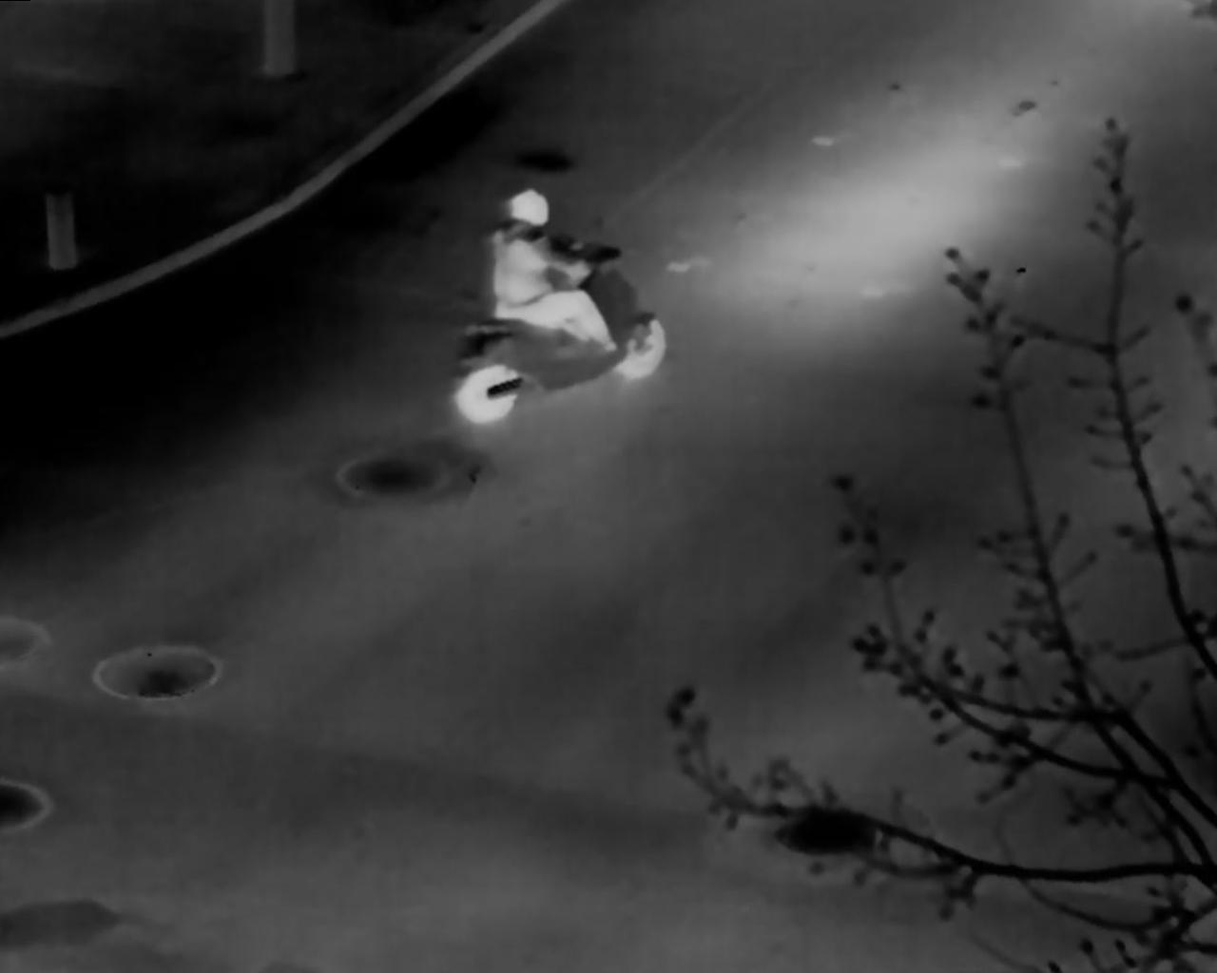person: (493, 187, 620, 354)
